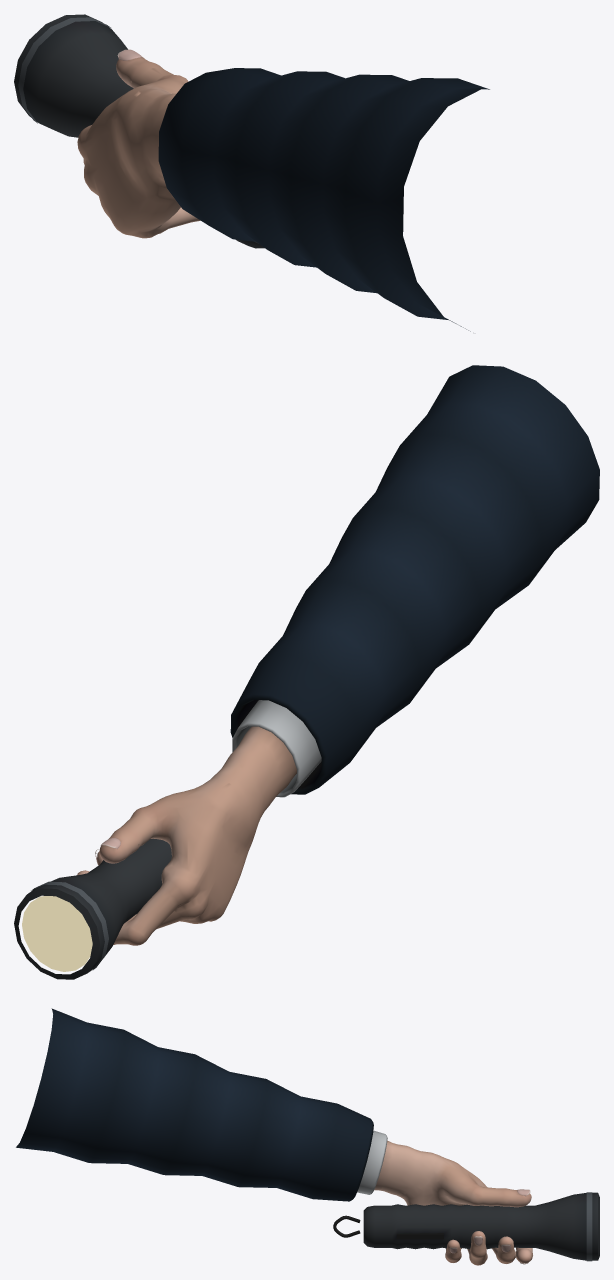
The model's file is torch_L.glb.
3 views of the same model, one above another, from view 1: azimuth 30°, elevation 25°; view 2: azimuth 150°, elevation 25°; view 3: azimuth 270°, elevation 25° (orthographic). The views are drawn at different scales.
Visible parts, largest first — view 1: hand_torch_L_m0, hand_torch_L_m1; view 2: hand_torch_L_m0, hand_torch_L_m1, hand_torch_L_m3; view 3: hand_torch_L_m0, hand_torch_L_m1.
Boxes of the visible parts, bbox=[...] form: hand_torch_L_m0: bbox=[77, 49, 489, 331]; hand_torch_L_m1: bbox=[14, 14, 264, 248]; hand_torch_L_m0: bbox=[77, 365, 599, 945]; hand_torch_L_m1: bbox=[14, 838, 171, 979]; hand_torch_L_m3: bbox=[22, 896, 92, 971]; hand_torch_L_m0: bbox=[16, 1008, 532, 1265]; hand_torch_L_m1: bbox=[333, 1192, 599, 1261].
Size of the model in its own units: 0.1506 by 0.2728 by 0.6197.
